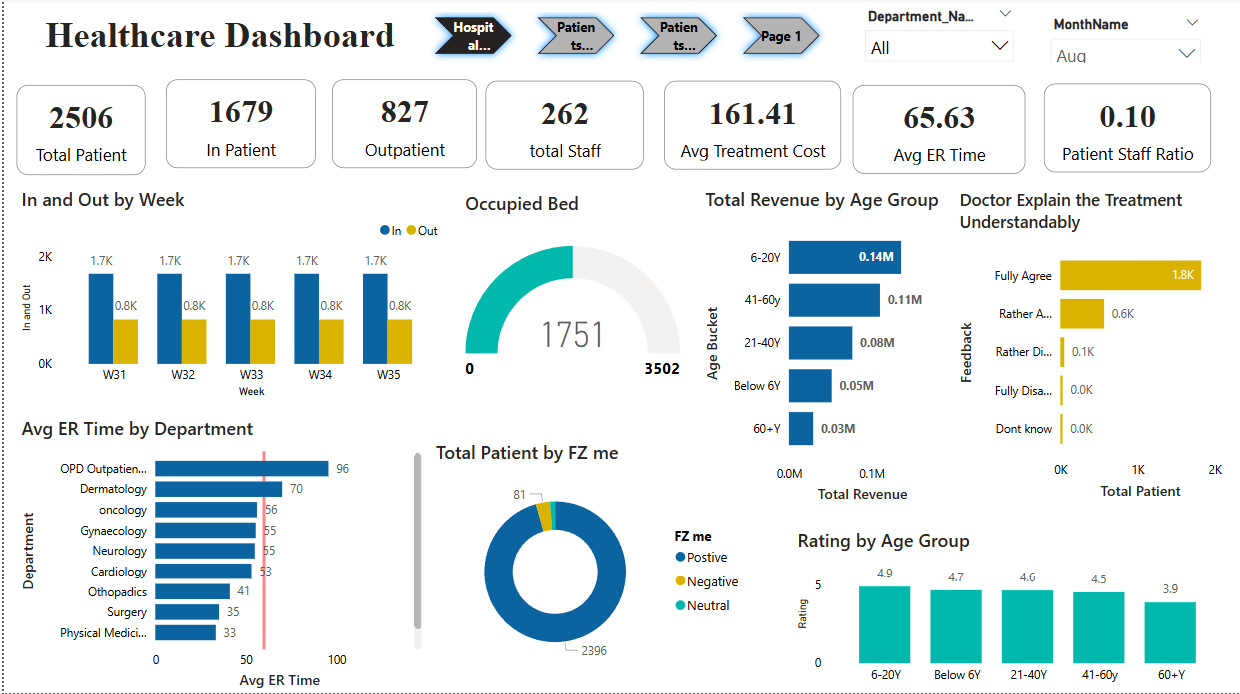

The dashboard page shown, as its layout file describes it:
{"tool":"powerbi","page":{"name":"Hospital Summary ","canvas":[1280,720],"ordinal":0},"visuals":[{"type":"cardVisual","fields":{"Data":["Measure.Total Patient"]},"box":[12.3,90.5,133,93.2],"z":1000},{"type":"textbox","box":[33,13.4,380.2,64.8],"z":2000},{"type":"slicer","fields":{"Values":["Department.Department_Name"]},"box":[878.9,6.1,173.6,69.7],"z":3000},{"type":"slicer","fields":{"Values":["Calendar_date.MonthName"]},"box":[1070.8,14.7,174.8,53.8],"z":4000},{"type":"cardVisual","fields":{"Data":["Measure.In Patient"]},"box":[167.3,85,154.9,91.9],"z":5000},{"type":"cardVisual","fields":{"Data":["Measure.Outpatient"]},"box":[338.6,85,149.4,91.9],"z":6000},{"type":"cardVisual","fields":{"Data":["Bed_Detail.total Staff"]},"box":[497.7,86.4,163.2,91.9],"z":7000},{"type":"cardVisual","fields":{"Data":["Measure.Avg Treatment Cost"]},"box":[681.4,86.4,182.3,91.9],"z":8000},{"type":"cardVisual","fields":{"Data":["Measure.Avg ER Time"]},"box":[876.1,90.5,178.2,91.9],"z":9000},{"type":"cardVisual","fields":{"Data":["Bed_Detail.Patient Staff Ratio"]},"box":[1073.5,89.1,172.8,91.9],"z":10000},{"type":"clusteredColumnChart","fields":{"Y":["Calendar_date.In Patient","Calendar_date.Outpatient"],"Category":["Calendar_date.WeekName"]},"box":[12.3,196.1,444.2,222.1],"z":11000},{"type":"gauge","fields":{"Y":["Divide(Measure.Occupied Bed, ScopedEval(Measure.Occupied Bed, []))"]},"box":[471.9,200.5,232.3,231],"z":12000},{"type":"clusteredBarChart","title":"Total Revenue by Age Group","fields":{"Y":["Measure.Total Revenue"],"Category":["Detail data dataset.Age Bucket"]},"box":[720,195.6,262.8,331.3],"z":13000},{"type":"barChart","fields":{"Y":["Measure.Avg ER Time"],"Category":["Department.Department_Name"]},"box":[12.3,431.9,423.7,287.9],"z":14000},{"type":"barChart","title":"Doctor Explain the Treatment Understandably","fields":{"Y":["Measure.Total Patient"],"Category":["Detail data dataset.Feedback"]},"box":[981.2,197.5,287.5,326.2],"z":15000},{"type":"columnChart","title":"Rating by Age Group","fields":{"Y":["Measure.Rating"],"Category":["Detail data dataset.Age Bucket"]},"box":[814.4,548.4,453.8,171.4],"z":16000},{"type":"donutChart","fields":{"Y":["Measure.Total Patient"],"Category":["Detail data dataset.FZ me"]},"box":[441.3,457.2,331.3,249.4],"z":17000},{"type":"pageNavigator","box":[436.8,13,415.2,54.8],"z":18000}]}

Visuals, with their boxes in screenshot pixels (x1, y1, x2, y2), scaled from the page's 1280x720 canvas onto the 1240x694 screenshot:
cardVisual - Measure.Total Patient: region(12, 87, 141, 177)
textbox: region(32, 13, 400, 75)
slicer - Department.Department_Name: region(851, 6, 1020, 73)
slicer - Calendar_date.MonthName: region(1037, 14, 1207, 66)
cardVisual - Measure.In Patient: region(162, 82, 312, 171)
cardVisual - Measure.Outpatient: region(328, 82, 473, 171)
cardVisual - Bed_Detail.total Staff: region(482, 83, 640, 172)
cardVisual - Measure.Avg Treatment Cost: region(660, 83, 837, 172)
cardVisual - Measure.Avg ER Time: region(849, 87, 1021, 176)
cardVisual - Bed_Detail.Patient Staff Ratio: region(1040, 86, 1207, 174)
clusteredColumnChart - Calendar_date.In Patient x Calendar_date.Outpatient: region(12, 189, 442, 403)
gauge - Divide(Measure.Occupied Bed, ScopedEval(Measure.Occupied Bed, [])): region(457, 193, 682, 416)
"Total Revenue by Age Group" clusteredBarChart: region(698, 189, 952, 508)
barChart - Measure.Avg ER Time x Department.Department_Name: region(12, 416, 422, 693)
"Doctor Explain the Treatment Understandably" barChart: region(951, 190, 1229, 505)
"Rating by Age Group" columnChart: region(789, 529, 1229, 693)
donutChart - Measure.Total Patient x Detail data dataset.FZ me: region(428, 441, 748, 681)
pageNavigator: region(423, 13, 825, 65)
